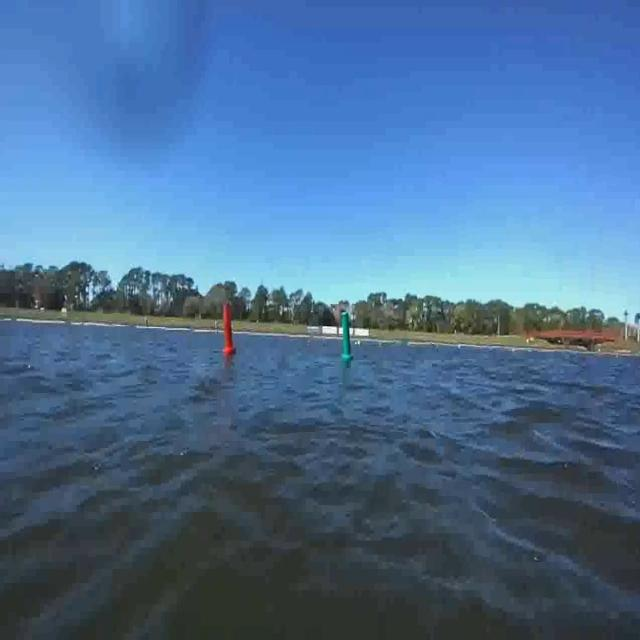green-column-buoy: (342, 312, 356, 364)
red-column-buoy: (221, 302, 236, 354)
